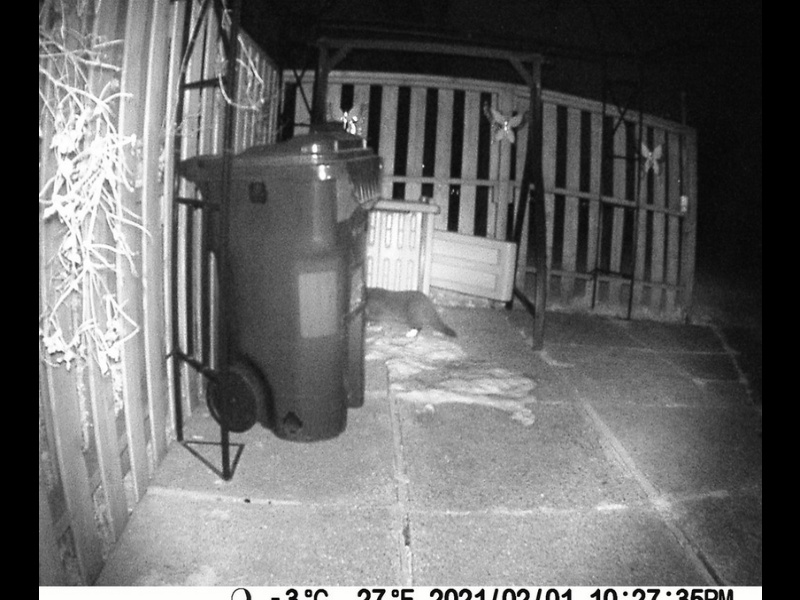cat: (358, 283, 457, 345)
